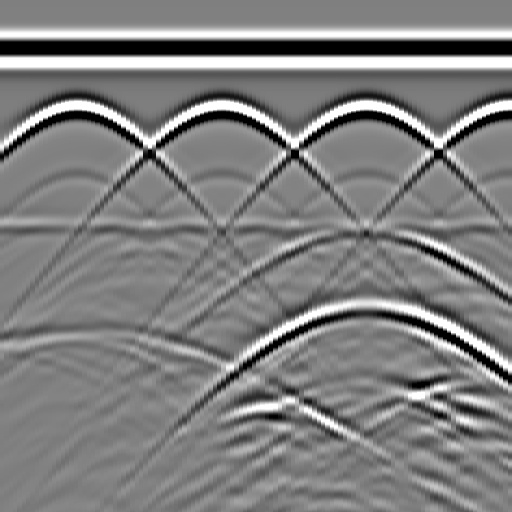grout_surface: (1, 212, 512, 242)
rebar: (55, 89, 95, 129), (199, 89, 239, 129), (344, 89, 384, 129), (488, 89, 512, 129)
rock_surface: (1, 332, 511, 409)
water_void: (336, 207, 396, 247)
